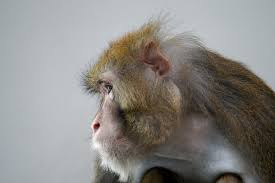monkey: (64, 14, 253, 143)
